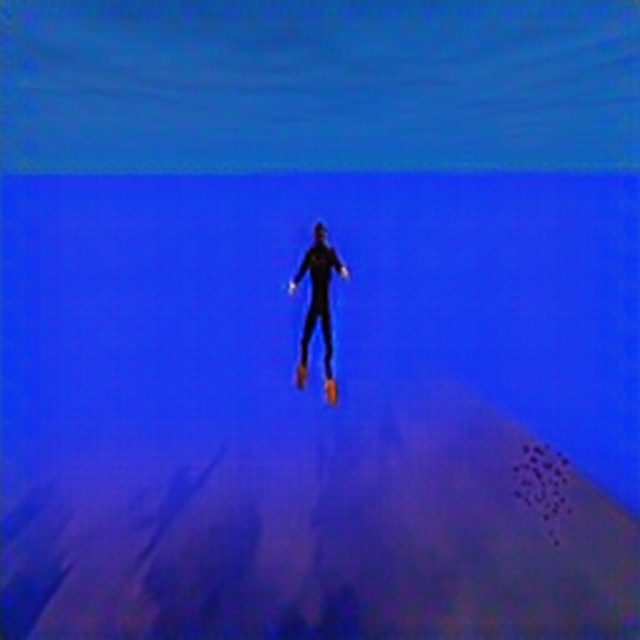diver: (285, 217, 351, 405)
